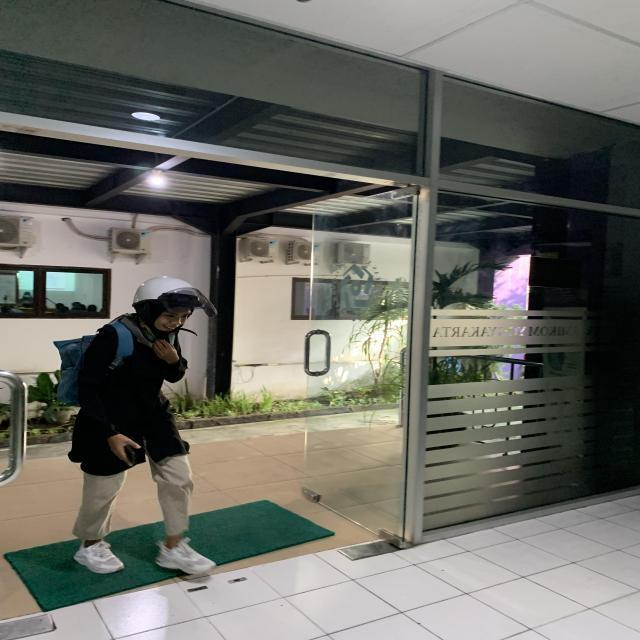hairnet: (133, 280, 200, 344)
